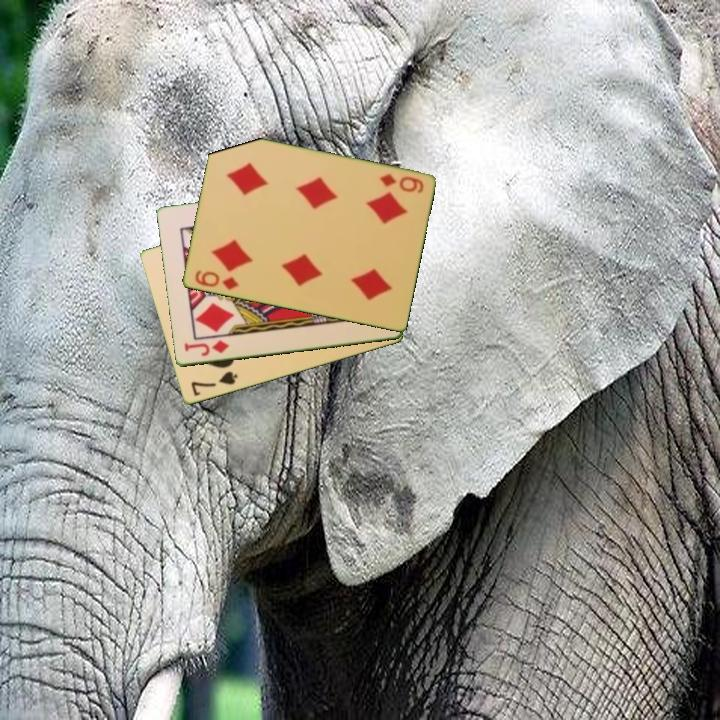6d: (191, 267, 242, 293), (376, 170, 426, 196)
7s: (187, 368, 241, 399)
Jd: (181, 337, 232, 359)
